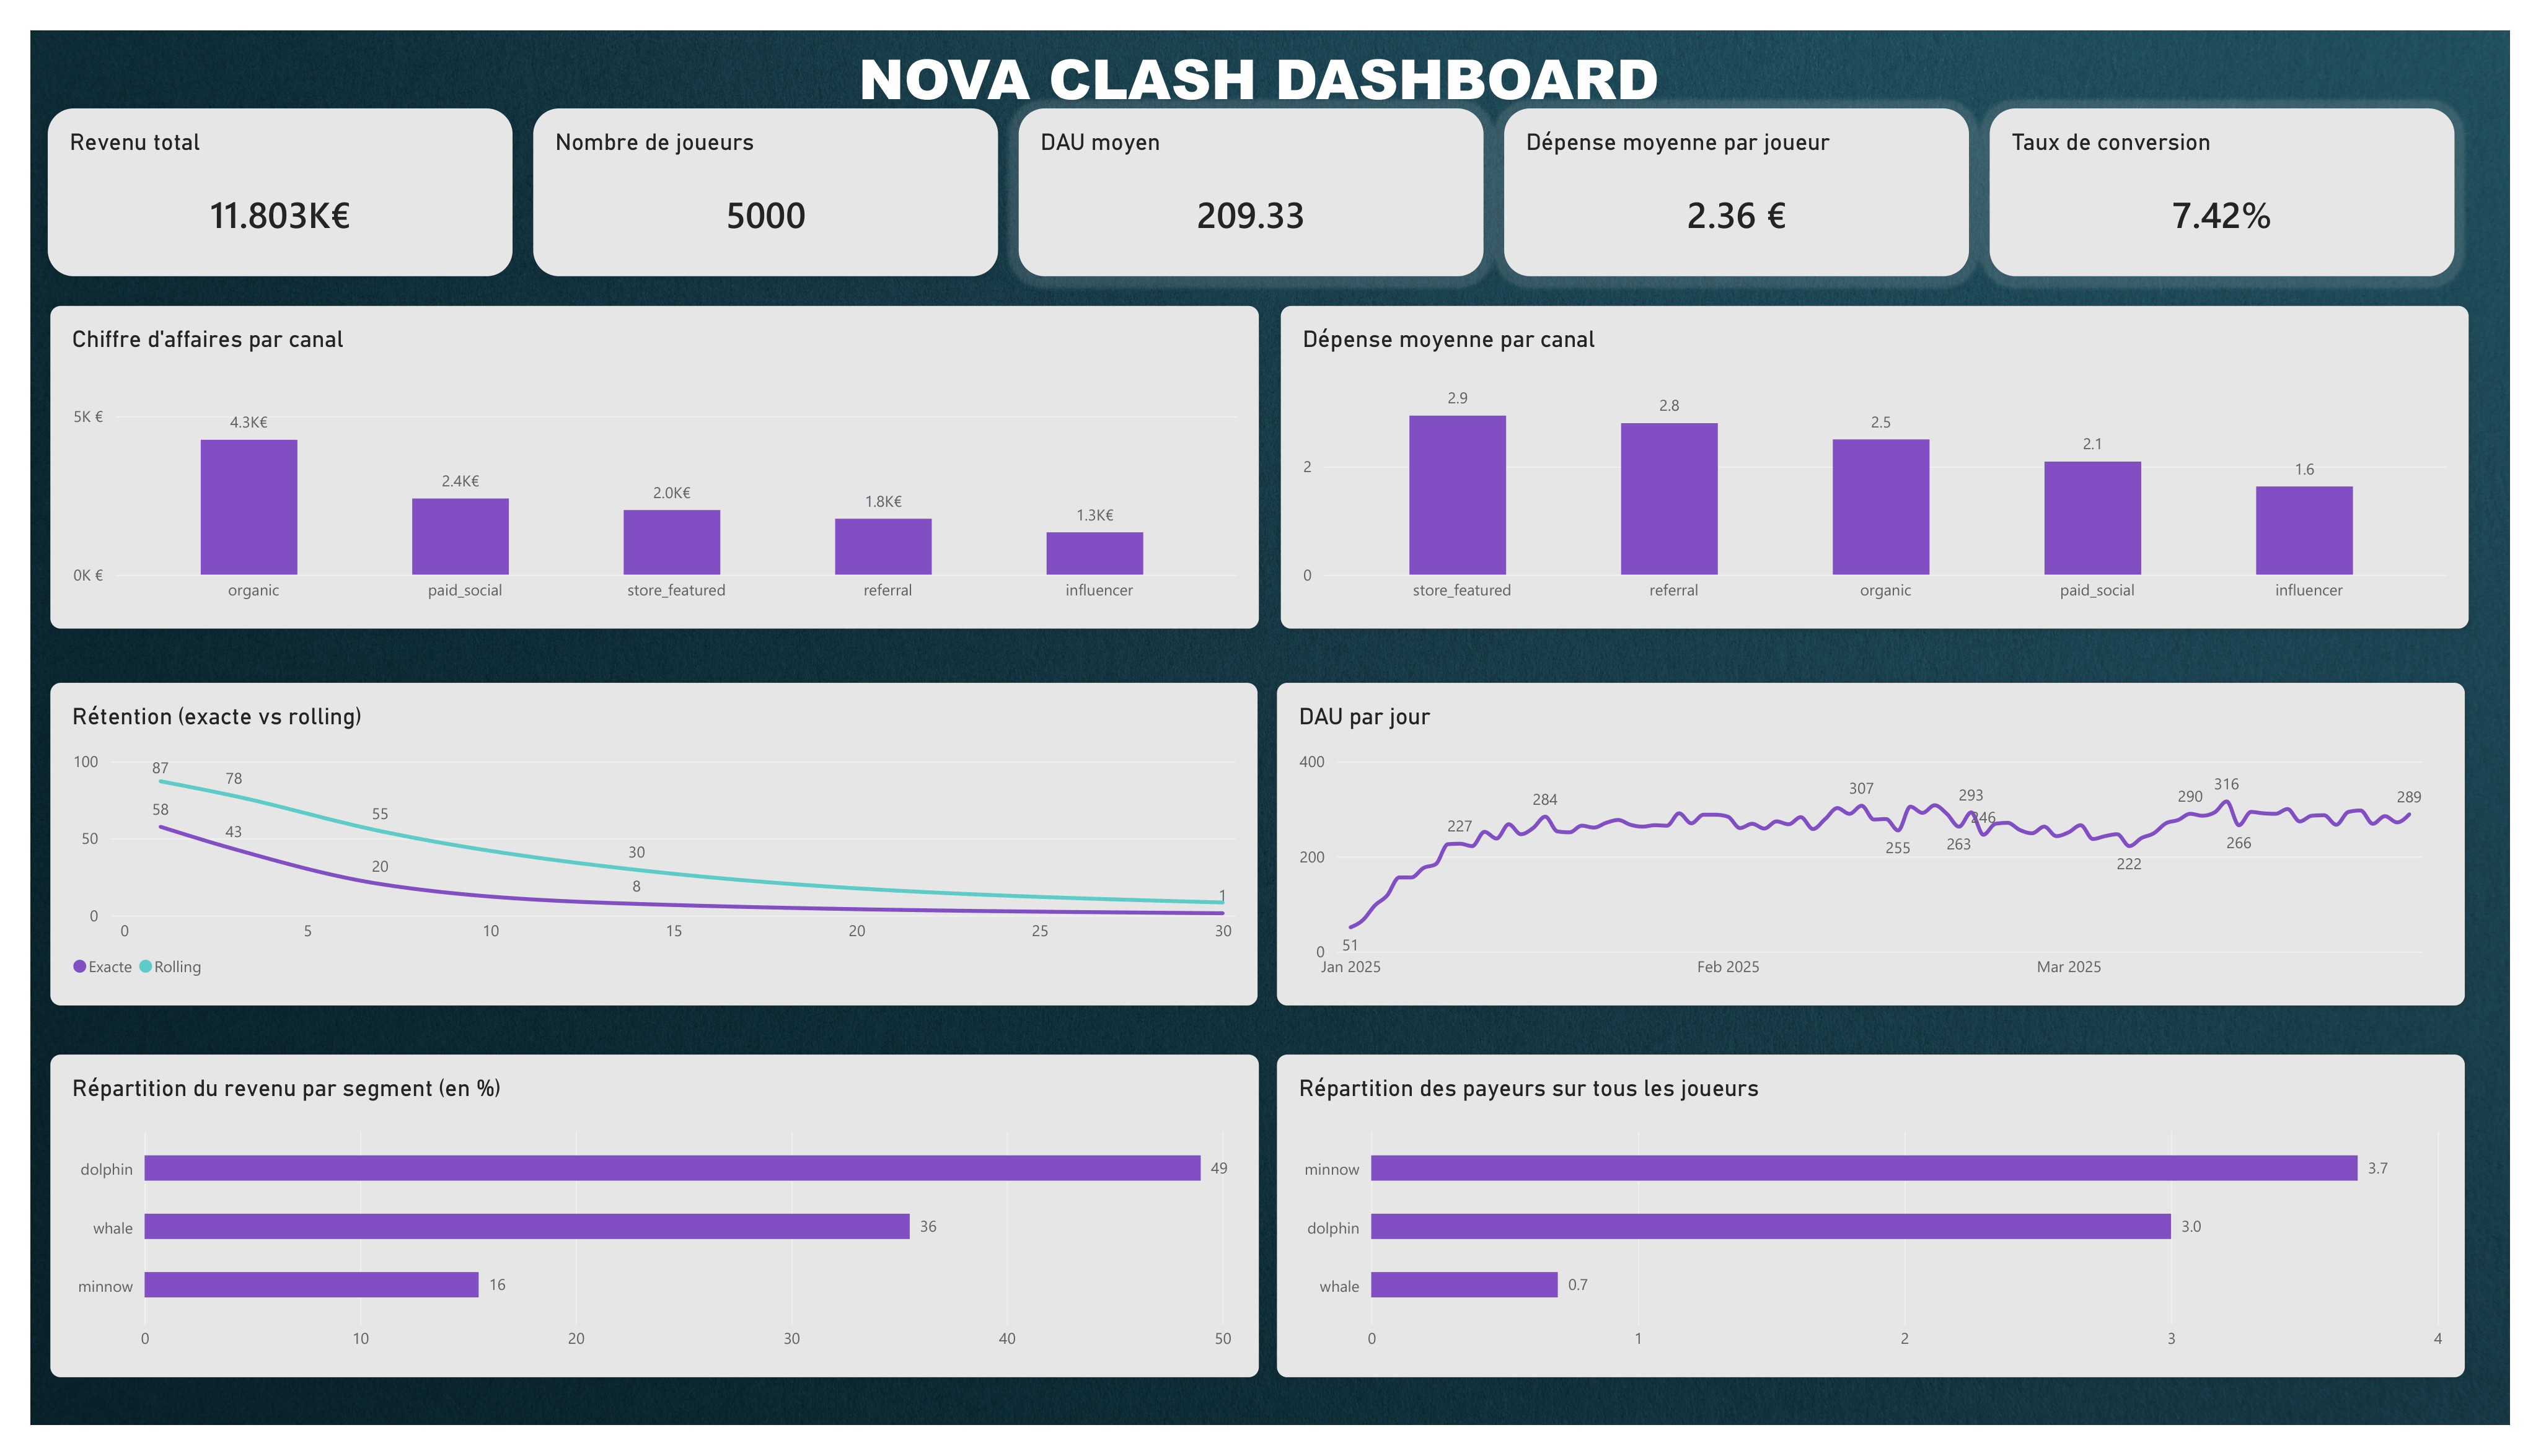

What the dashboard file says about the page in this screenshot:
{"tool":"powerbi","page":{"name":"Page 1","canvas":[1920,1080],"ordinal":0},"visuals":[{"type":"card","title":"Revenu total","fields":{"Values":["Sum(kpi_channel.revenu)"]},"box":[12.8,60.1,360,130],"z":0},{"type":"clusteredColumnChart","title":"Chiffre d''affaires par canal","fields":{"Category":["kpi_channel.canal"],"Y":["Sum(kpi_channel.revenu)"]},"box":[15,212.5,936,250],"z":1000},{"type":"clusteredColumnChart","title":"Dépense moyenne par canal","fields":{"Category":["kpi_channel.canal"],"Y":["Avg(kpi_channel.arpu)"]},"box":[967.5,212.5,920,250],"z":2000},{"type":"card","title":"Nombre de joueurs","fields":{"Values":["CountNonNull(players.player_id)"]},"box":[388.8,60.1,360,130],"z":3000},{"type":"card","title":"DAU moyen","fields":{"Values":["Avg(kpi_daily.dau)"]},"box":[764.8,60.1,360,130],"z":4000},{"type":"card","title":"Dépense moyenne par joueur","fields":{"Values":["_mesures.arpu_global"]},"box":[1140.8,60.1,360,130],"z":5000},{"type":"card","title":"Taux de conversion","fields":{"Values":["_mesures.taux_conv"]},"box":[1516.8,60.1,360,130],"z":6000},{"type":"lineChart","title":"Rétention (exacte vs rolling)","fields":{"Category":["kpi_retention.jour"],"Y":["Sum(kpi_retention.retention_exacte_pct)","Sum(kpi_retention.retention_rolling_pct)"]},"box":[15,505,935,250],"z":7000},{"type":"lineChart","title":"DAU par jour","fields":{"Category":["kpi_daily.jour"],"Y":["Sum(kpi_daily.dau)"]},"box":[965,505,920,250],"z":8000},{"type":"clusteredBarChart","title":"Répartition du revenu par segment (en %)","fields":{"Category":["kpi_segment.segment"],"Y":["Sum(kpi_segment.pct_revenu)"]},"box":[15,793.1,936,250],"z":9000},{"type":"clusteredBarChart","title":"Répartition des payeurs sur tous les joueurs","fields":{"Category":["kpi_segment.segment"],"Y":["Sum(kpi_segment.pct_tous_joueurs)"]},"box":[965,792.5,920,250],"z":10000},{"type":"shape","title":"NOVA CLASH DASHBOARD","box":[15,6,1872,72],"z":11000}]}

Visuals, with their boxes in screenshot pixels (x1, y1, x2, y2):
"Revenu total" card: 24 92 493 261
"Chiffre d''affaires par canal" clusteredColumnChart: 26 291 1248 616
"Dépense moyenne par canal" clusteredColumnChart: 1269 291 2470 616
"Nombre de joueurs" card: 514 92 984 261
"DAU moyen" card: 1005 92 1474 261
"Dépense moyenne par joueur" card: 1495 92 1965 261
"Taux de conversion" card: 1986 92 2456 261
"Rétention (exacte vs rolling)" lineChart: 26 672 1246 998
"DAU par jour" lineChart: 1266 672 2467 998
"Répartition du revenu par segment (en %)" clusteredBarChart: 26 1048 1248 1374
"Répartition des payeurs sur tous les joueurs" clusteredBarChart: 1266 1047 2467 1374
"NOVA CLASH DASHBOARD" shape: 26 21 2470 115
